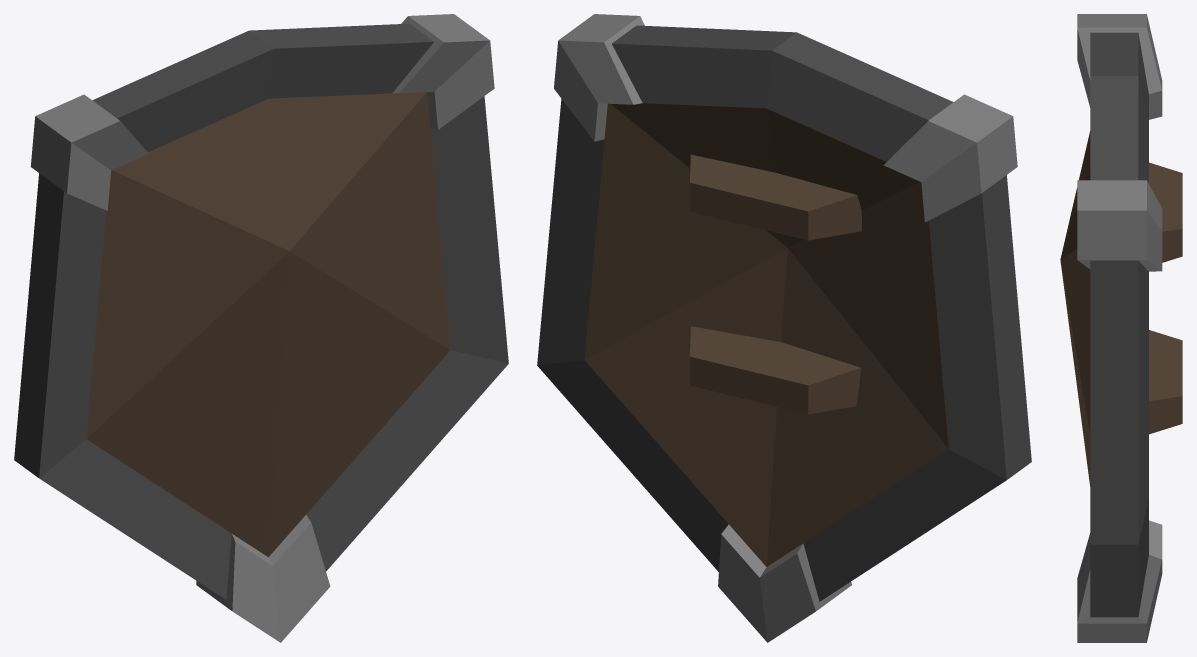
The model's file is Shield.fbx.
3 views of the same model, side by side, from view 1: azimuth 30°, elevation 25°; view 2: azimuth 150°, elevation 25°; view 3: azimuth 270°, elevation 25° (orthographic). The views are drawn at different scales.
Parts seen in each view (by area): view 1: Shield; view 2: Shield; view 3: Shield.
Part boxes in pixels (x1=…): Shield: x1=14, y1=14, x2=508, y2=642; Shield: x1=537, y1=14, x2=1031, y2=642; Shield: x1=1060, y1=14, x2=1182, y2=642.
Bounding box in the file's own units: 229 × 274 × 53.53.
